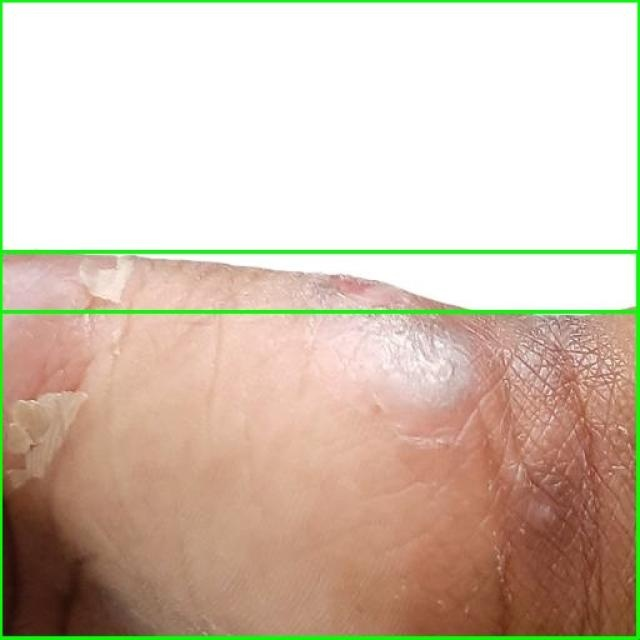Scabies: (0, 251, 639, 639), (0, 0, 639, 312)
